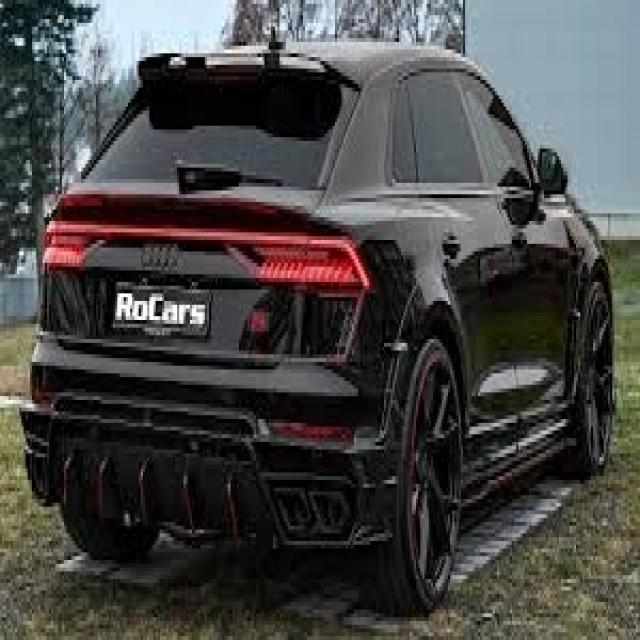black: (10, 38, 633, 574)
